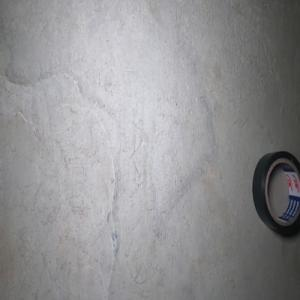Tape: (252, 150, 300, 237)
